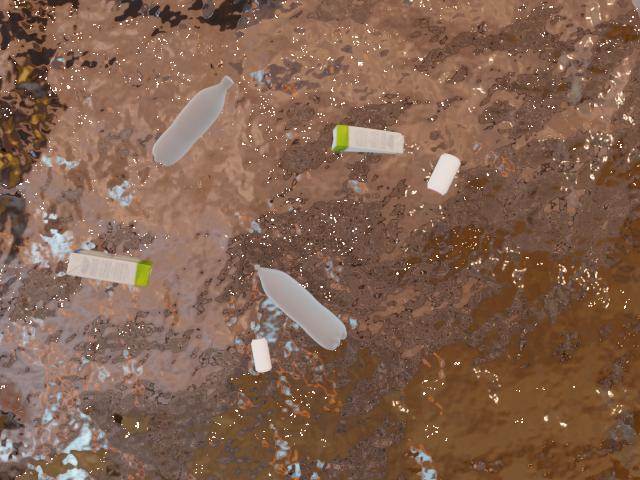Metal: (423, 140, 464, 215), (246, 334, 274, 383)
Plastic: (244, 251, 363, 366), (140, 64, 242, 184)
Trash: (315, 118, 417, 166), (62, 245, 159, 291)
